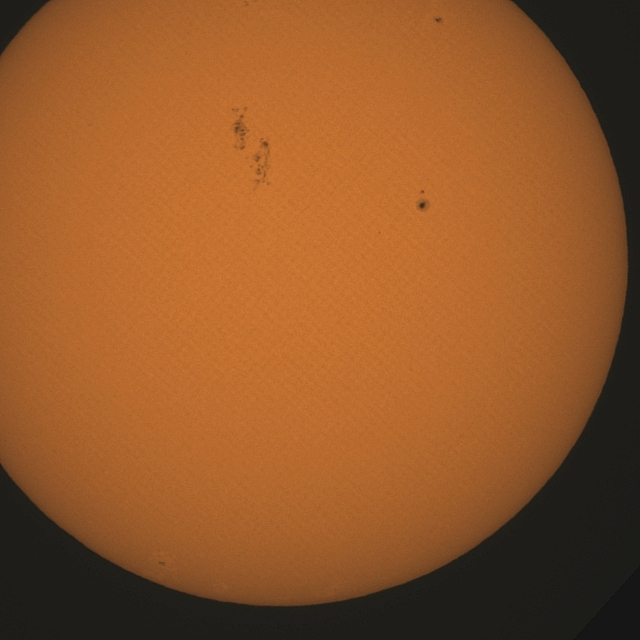sunspot: (232, 124, 271, 176), (246, 137, 273, 190), (230, 106, 250, 150), (415, 193, 430, 213), (434, 16, 444, 24), (243, 0, 251, 8), (158, 560, 166, 567), (420, 189, 425, 195)
